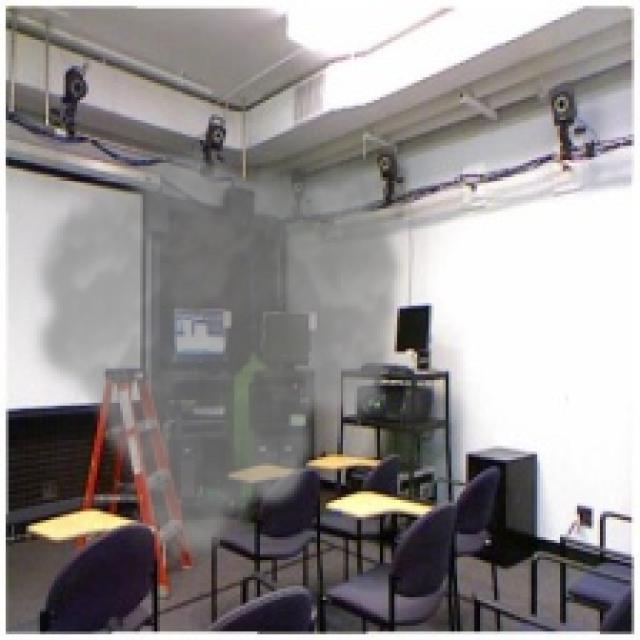smoke: (23, 146, 408, 568)
